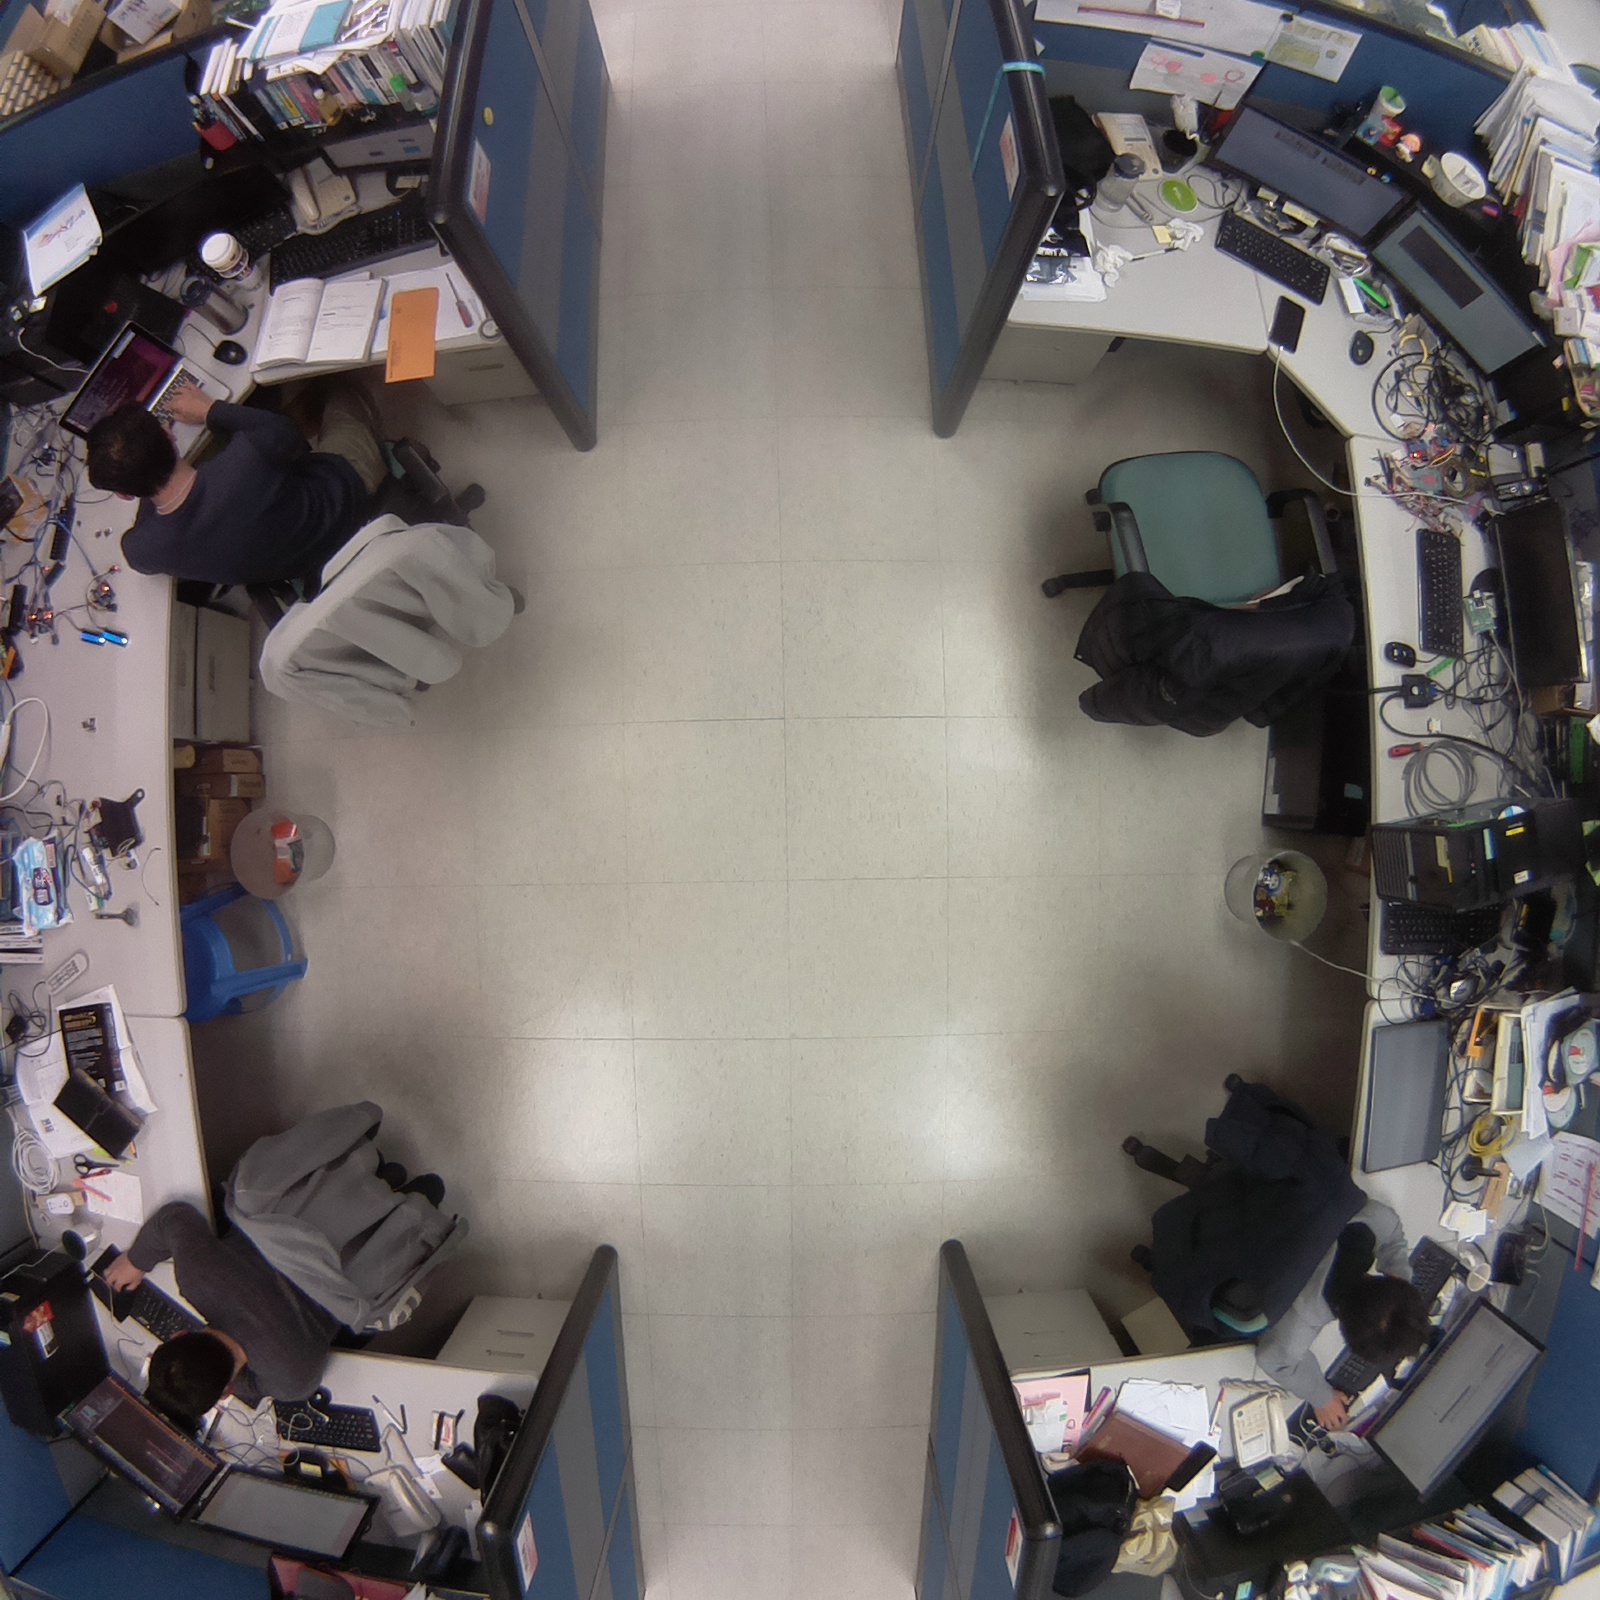chair: (1030, 421, 1357, 753)
sitting: (67, 363, 554, 744), (1084, 1055, 1451, 1461), (81, 1089, 484, 1448)
